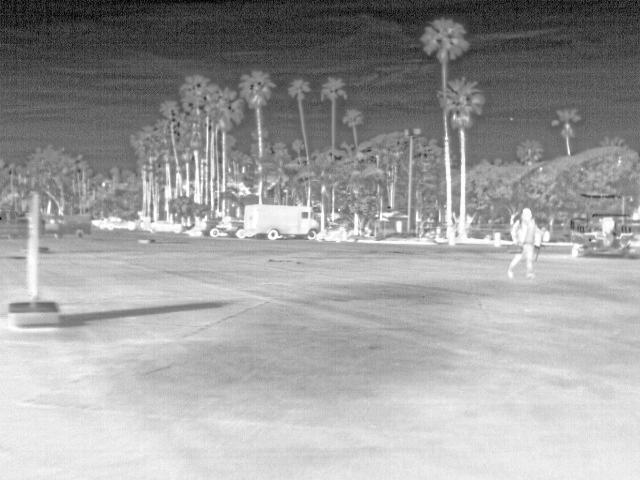car: (54, 213, 91, 238), (0, 209, 30, 239), (148, 218, 184, 234), (219, 216, 245, 237), (102, 214, 135, 230), (203, 219, 225, 238)
person: (511, 207, 539, 280)
